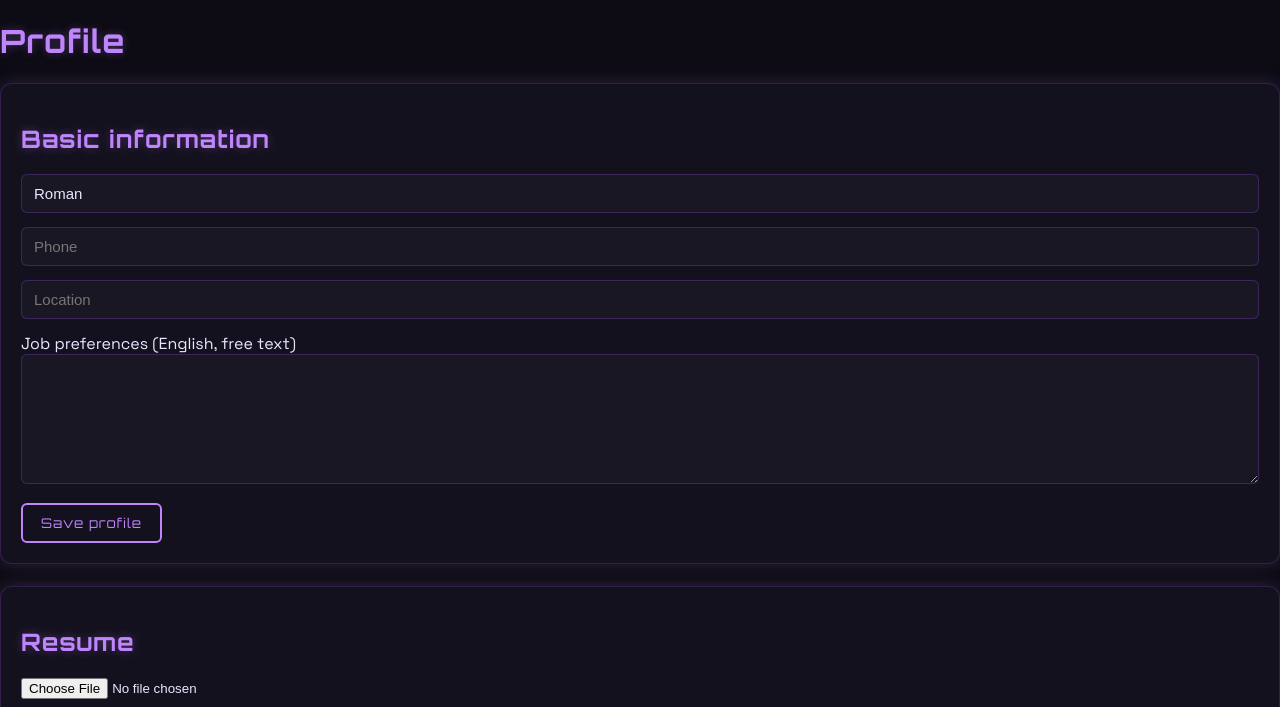
ProfilePage › shows an error when saving profile updates fails
Expected: the field showing "Roman" is shown, [21, 174, 1259, 213]
Click the button "Save profile": click(92, 523) [21, 503, 162, 543]
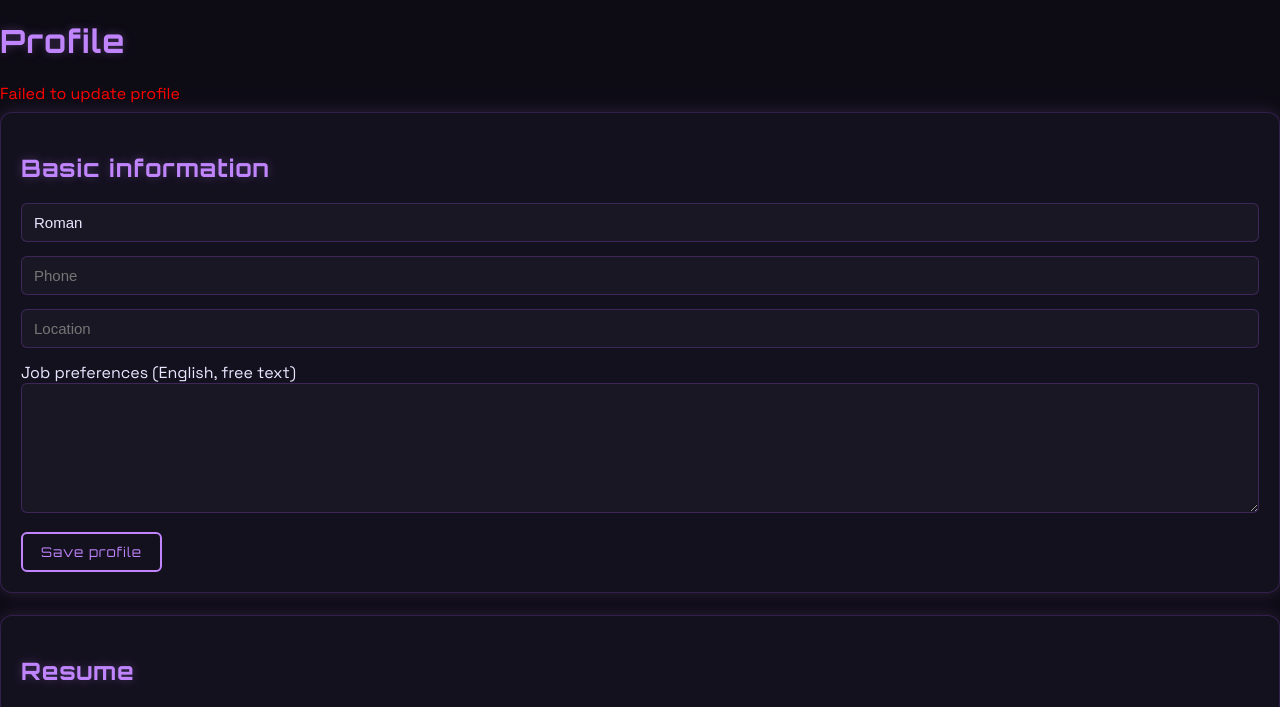
Result: the text "Failed to update profile" is shown at [0, 83, 180, 104]
